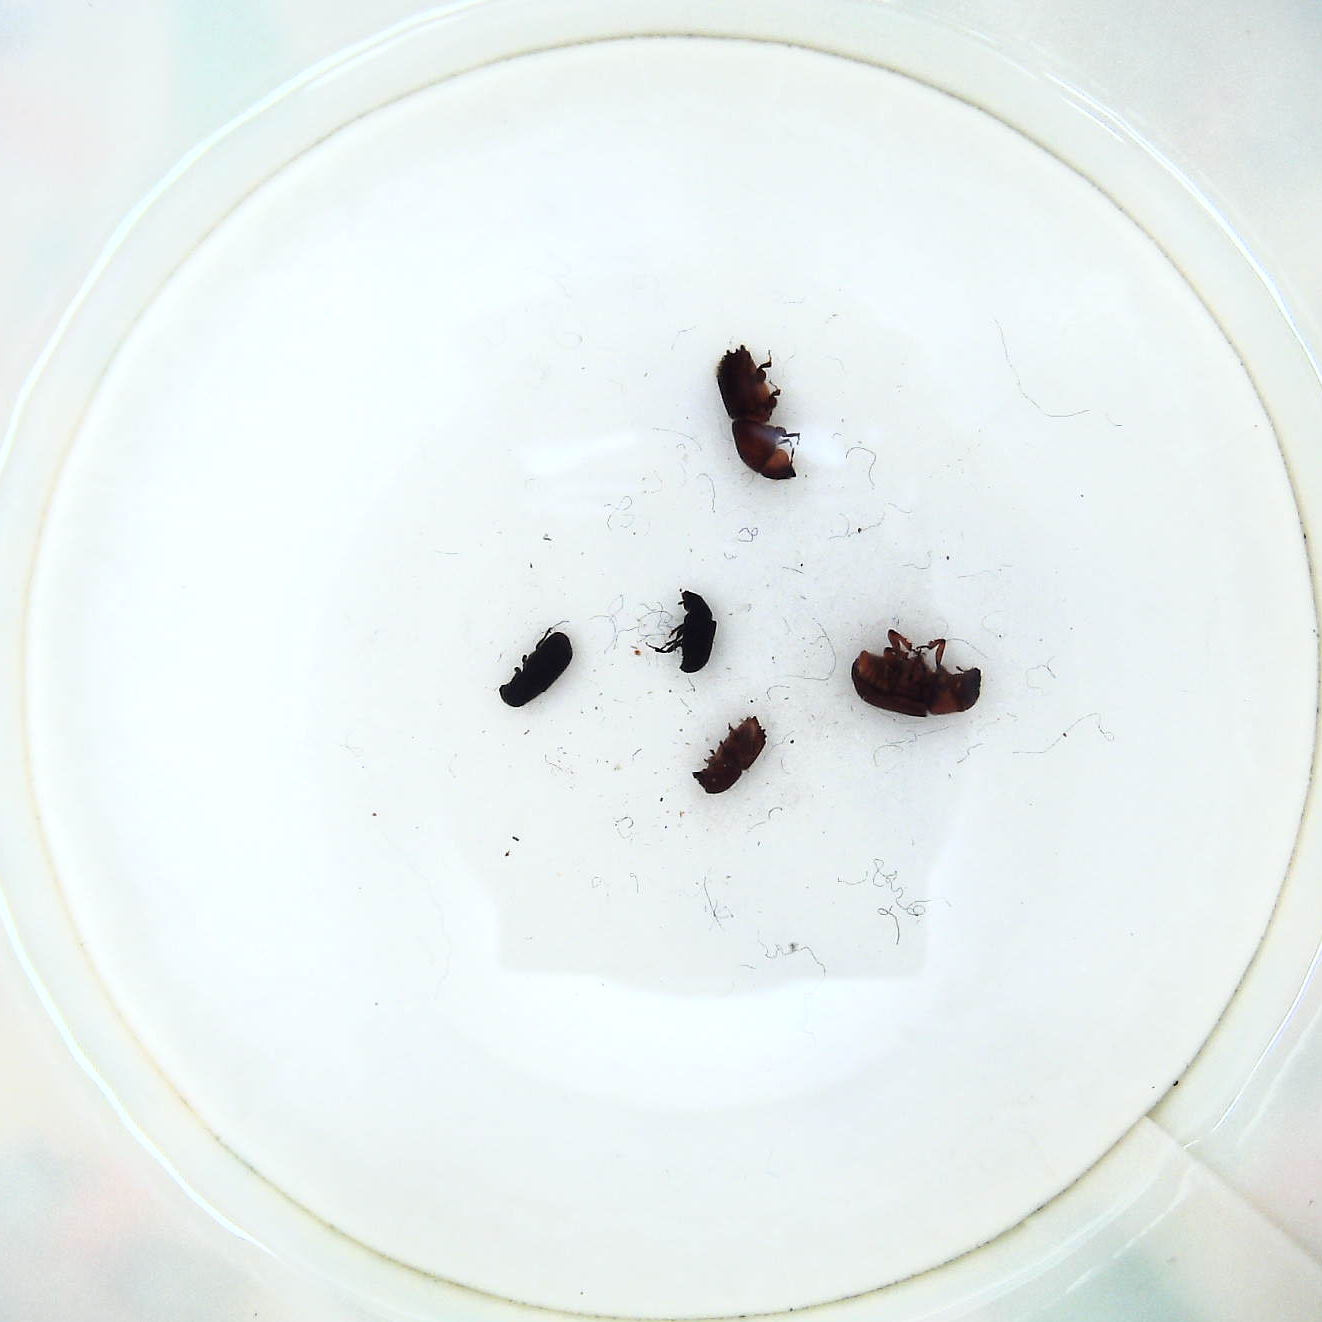Boerner: (711, 340, 806, 489)
Leconte: (843, 623, 989, 723)
armandi: (496, 623, 574, 711)
coleoptera: (657, 582, 722, 677)
linnaeus: (694, 715, 774, 799)
